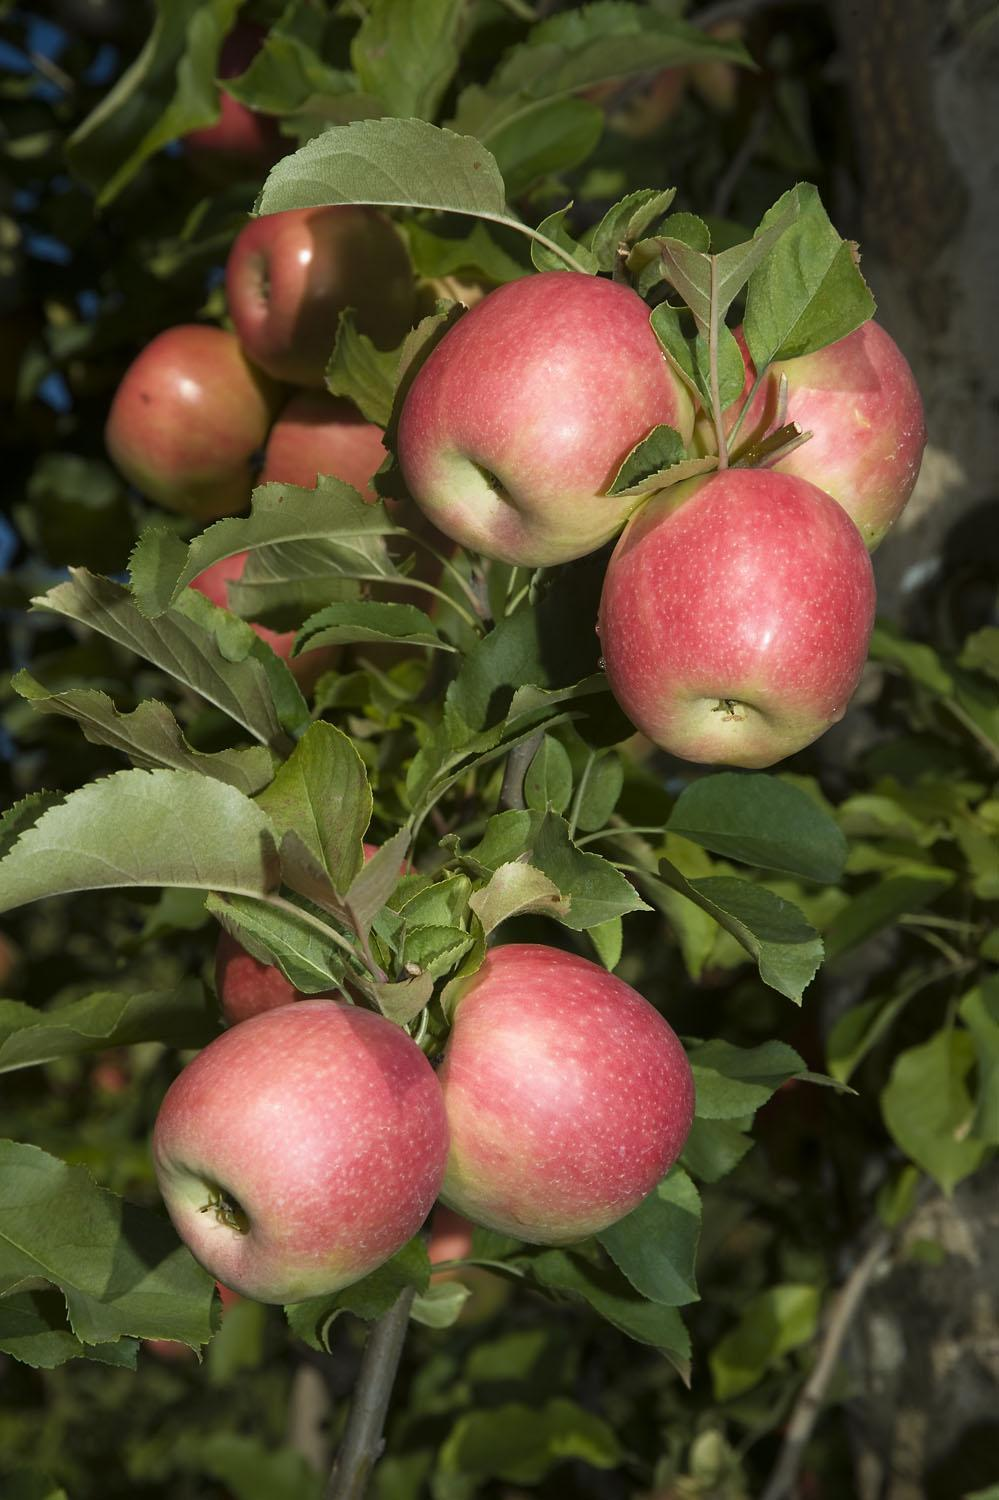apple: (163, 977, 450, 1288), (394, 269, 685, 572), (598, 470, 875, 772), (430, 942, 692, 1248), (741, 316, 930, 554), (101, 325, 271, 530), (227, 201, 405, 374)
